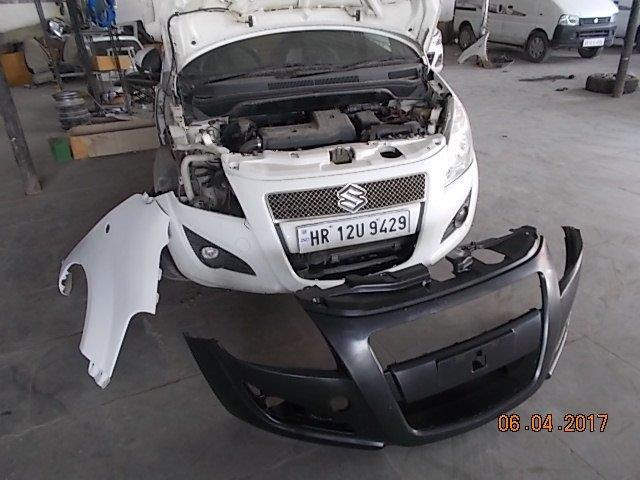Large_tear_or_damage: (150, 102, 262, 223)
